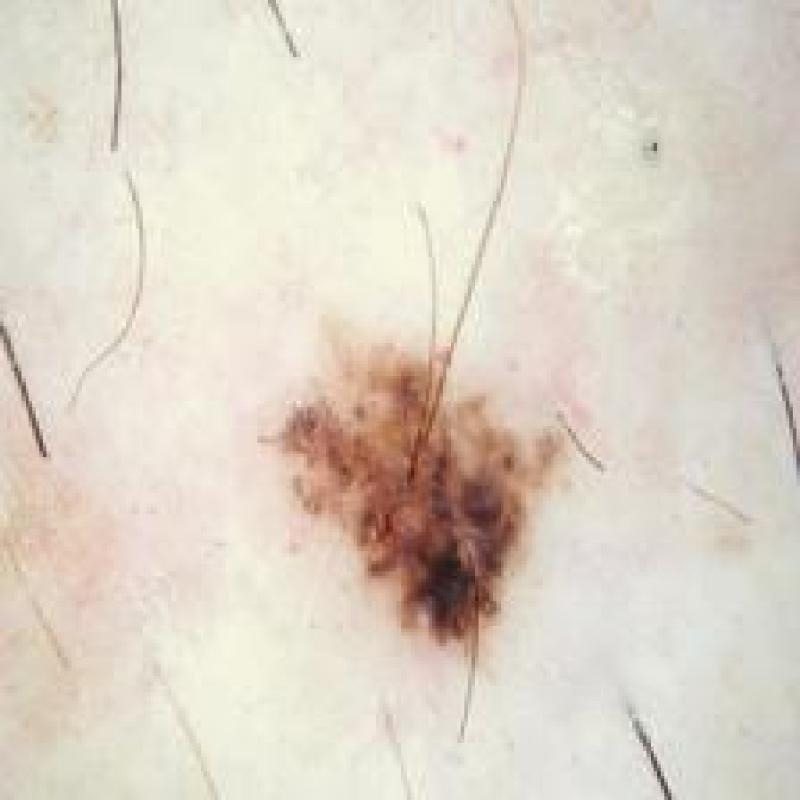malignant: (263, 308, 606, 682)
